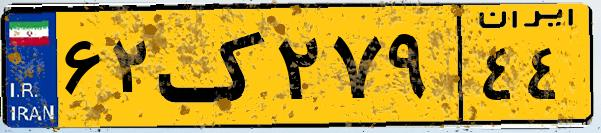2: (270, 28, 330, 110), (110, 28, 158, 98)
4: (475, 38, 525, 113), (525, 38, 570, 115)
6: (57, 26, 110, 100)
7: (330, 28, 385, 110)
9: (385, 28, 445, 110)
ک: (158, 12, 270, 120)
